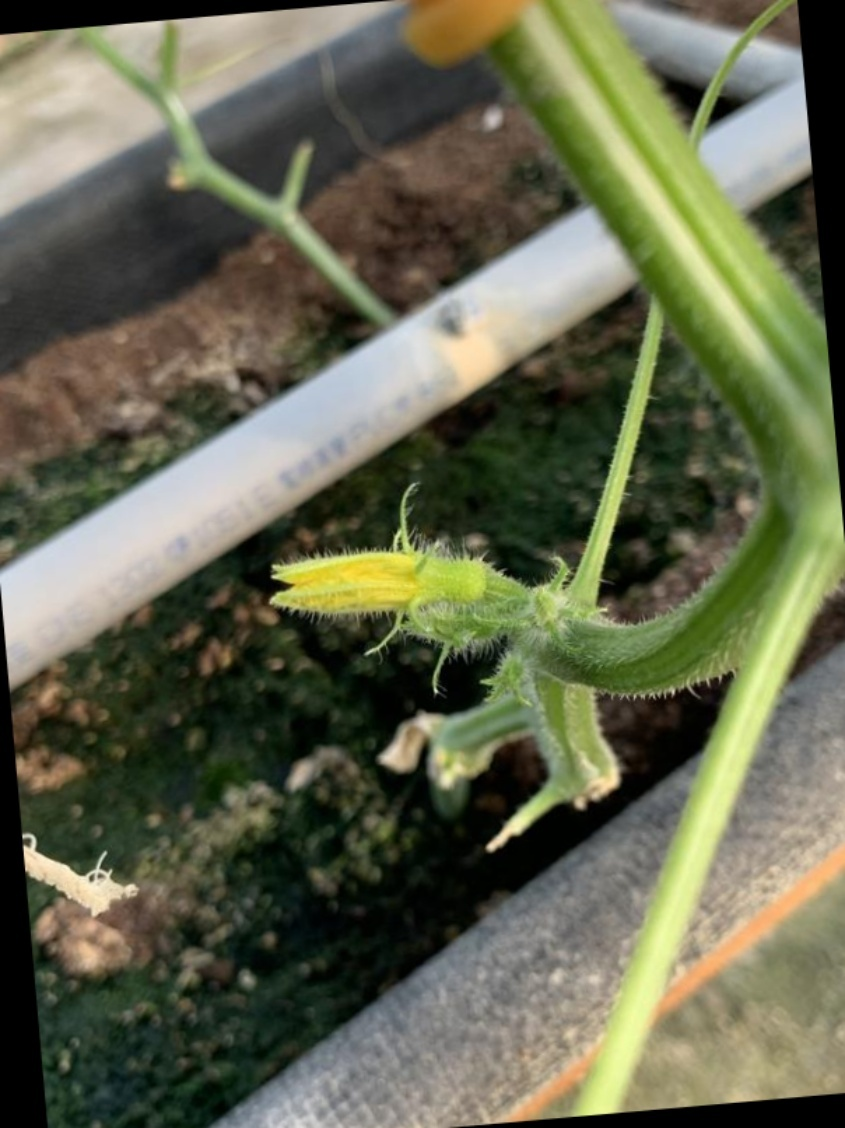bud: (268, 542, 528, 654)
